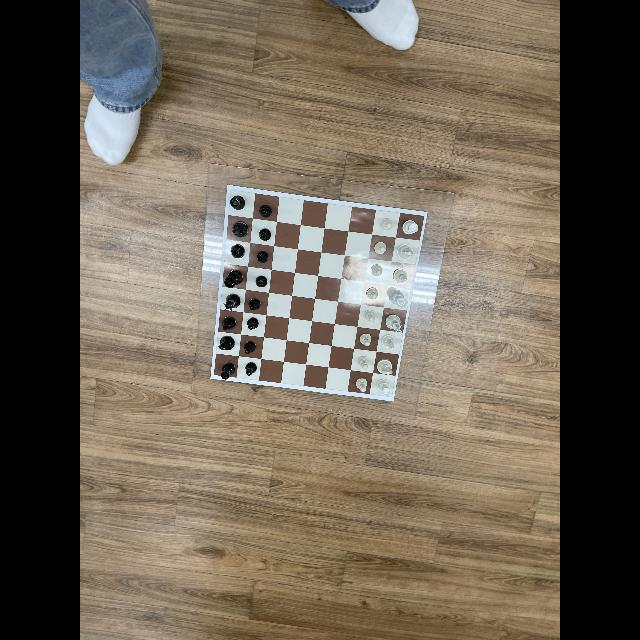chessboard-corner: (223, 182, 233, 190), (423, 207, 431, 217), (392, 397, 398, 405), (208, 376, 215, 382)
